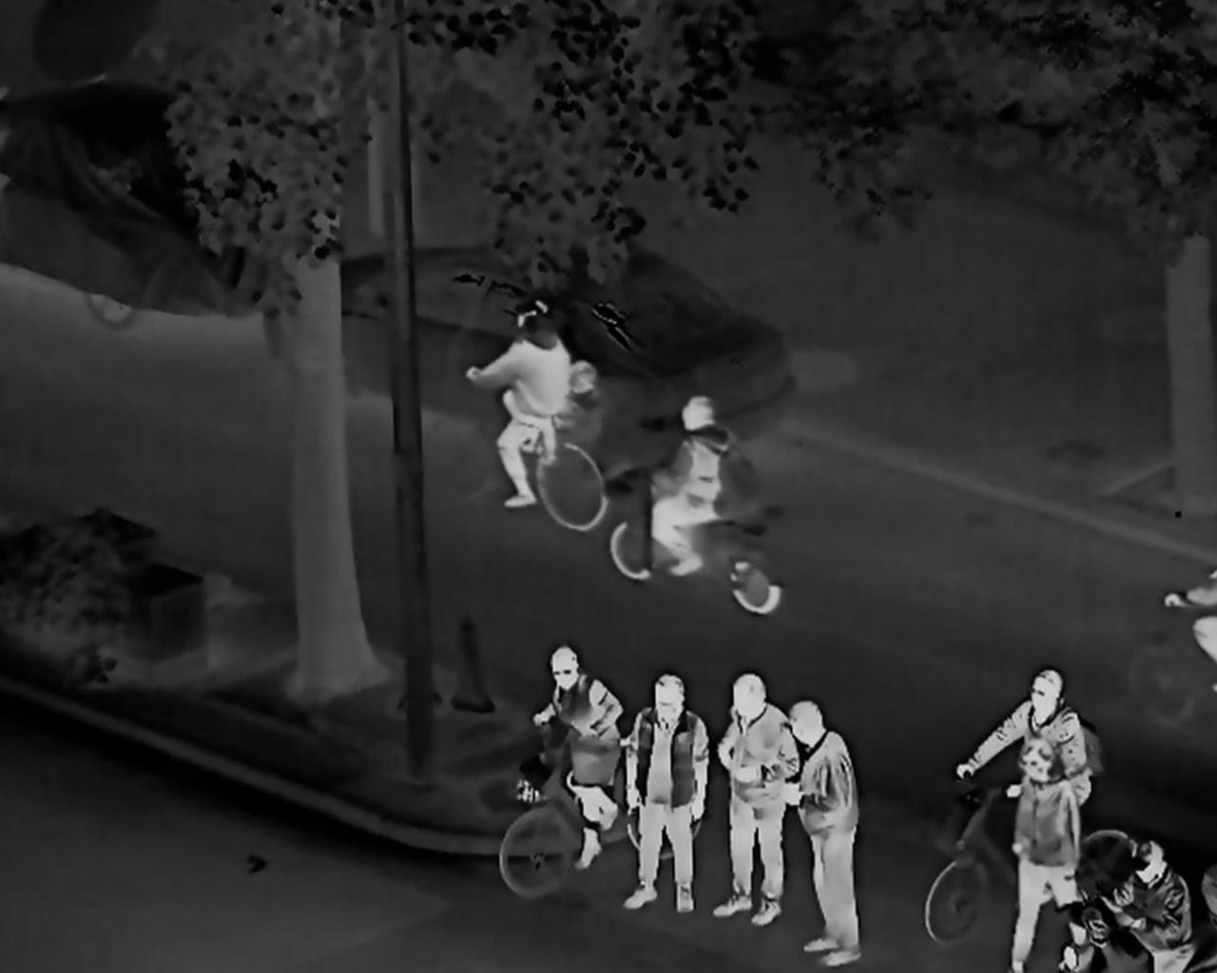person: (954, 670, 1092, 896), (464, 298, 570, 507), (782, 698, 863, 968), (714, 673, 797, 923), (620, 675, 709, 908), (533, 645, 622, 871), (1006, 741, 1089, 973), (647, 393, 739, 575), (1098, 836, 1194, 973)
